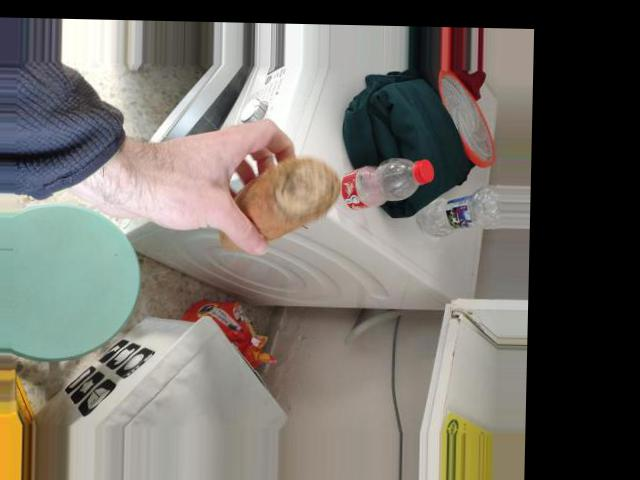sweet_potato: (204, 151, 332, 260)
